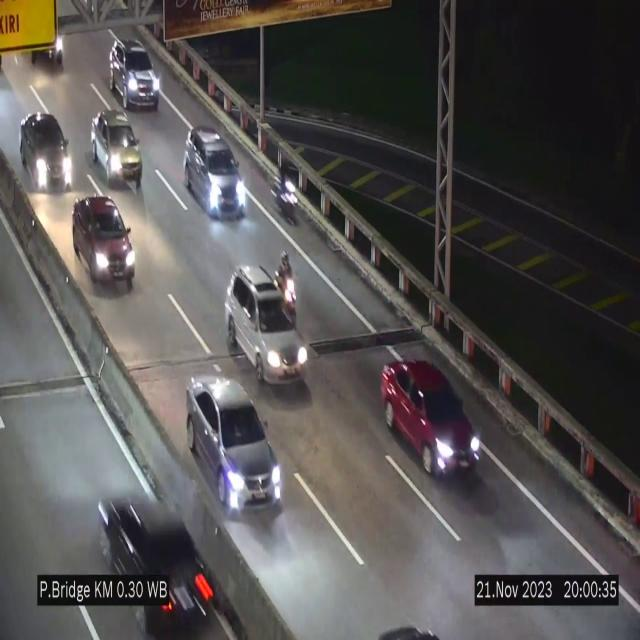Car: (92, 467, 223, 640), (186, 376, 282, 515), (380, 354, 480, 482), (224, 265, 307, 384), (184, 126, 248, 216), (73, 196, 135, 287), (17, 110, 75, 194), (91, 112, 143, 190), (109, 40, 161, 110)
Motorcycle: (270, 152, 300, 230), (279, 250, 299, 324)
